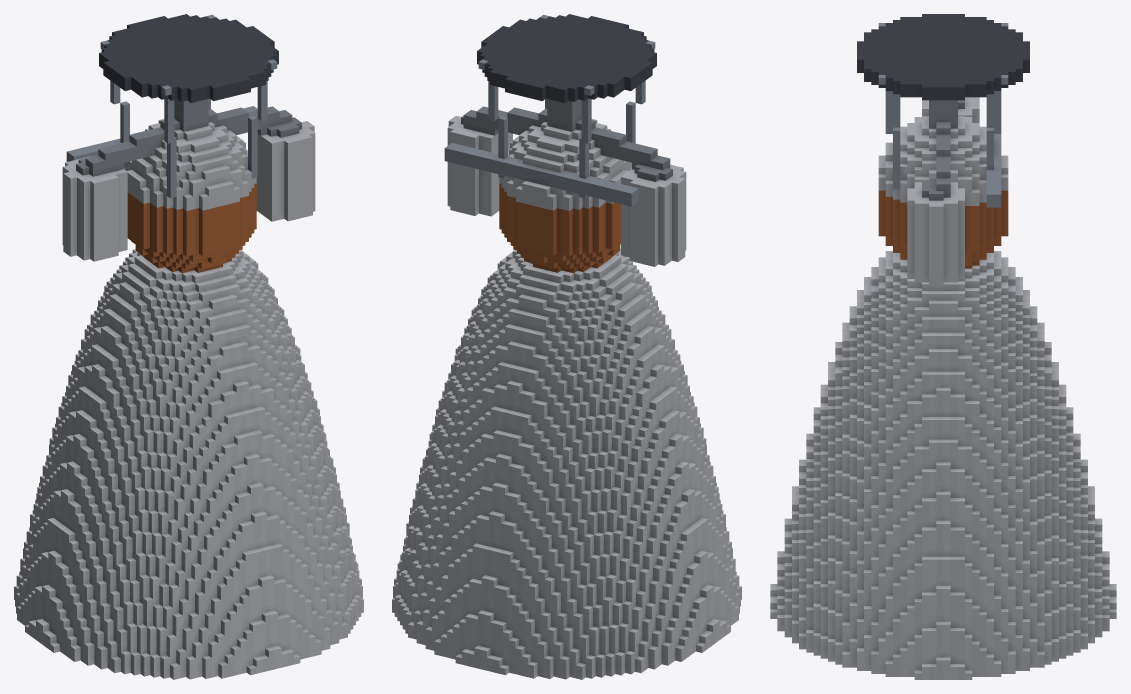
Rendered from eng_hidra_25.glb.
3 renders of one model, left to right at view 1: azimuth 30°, elevation 25°; view 2: azimuth 150°, elevation 25°; view 3: azimuth 270°, elevation 25°, orthographic.
Visible parts, largest first — view 1: eng_hidra_25; view 2: eng_hidra_25; view 3: eng_hidra_25.
Boxes of the visible parts, bbox=[...] form: eng_hidra_25: bbox=[14, 14, 363, 679]; eng_hidra_25: bbox=[392, 14, 741, 679]; eng_hidra_25: bbox=[770, 14, 1116, 679].
Size of the model in its own units: 2.4 by 4.25 by 2.4.
